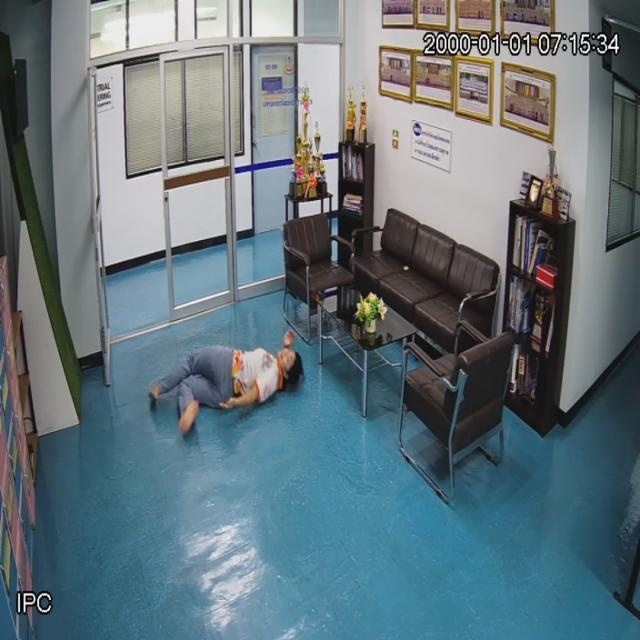fall: (147, 329, 313, 455)
